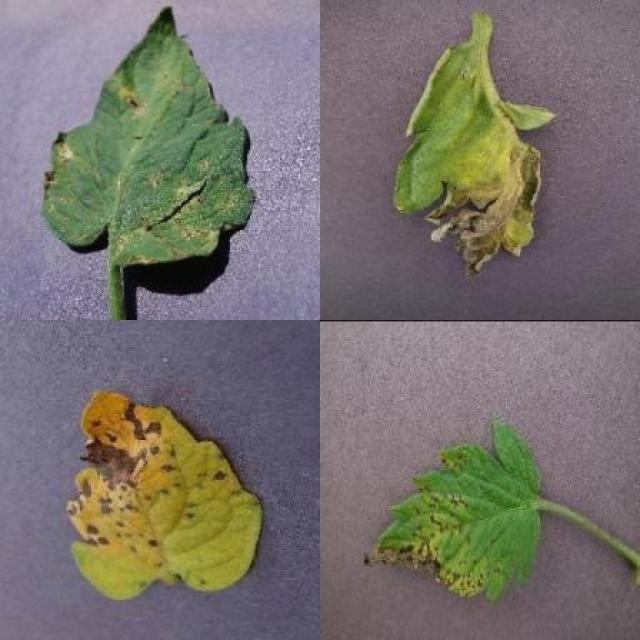Late Blight: (393, 40, 560, 280)
Septoria: (42, 4, 258, 270), (68, 387, 265, 603), (361, 419, 546, 600)
